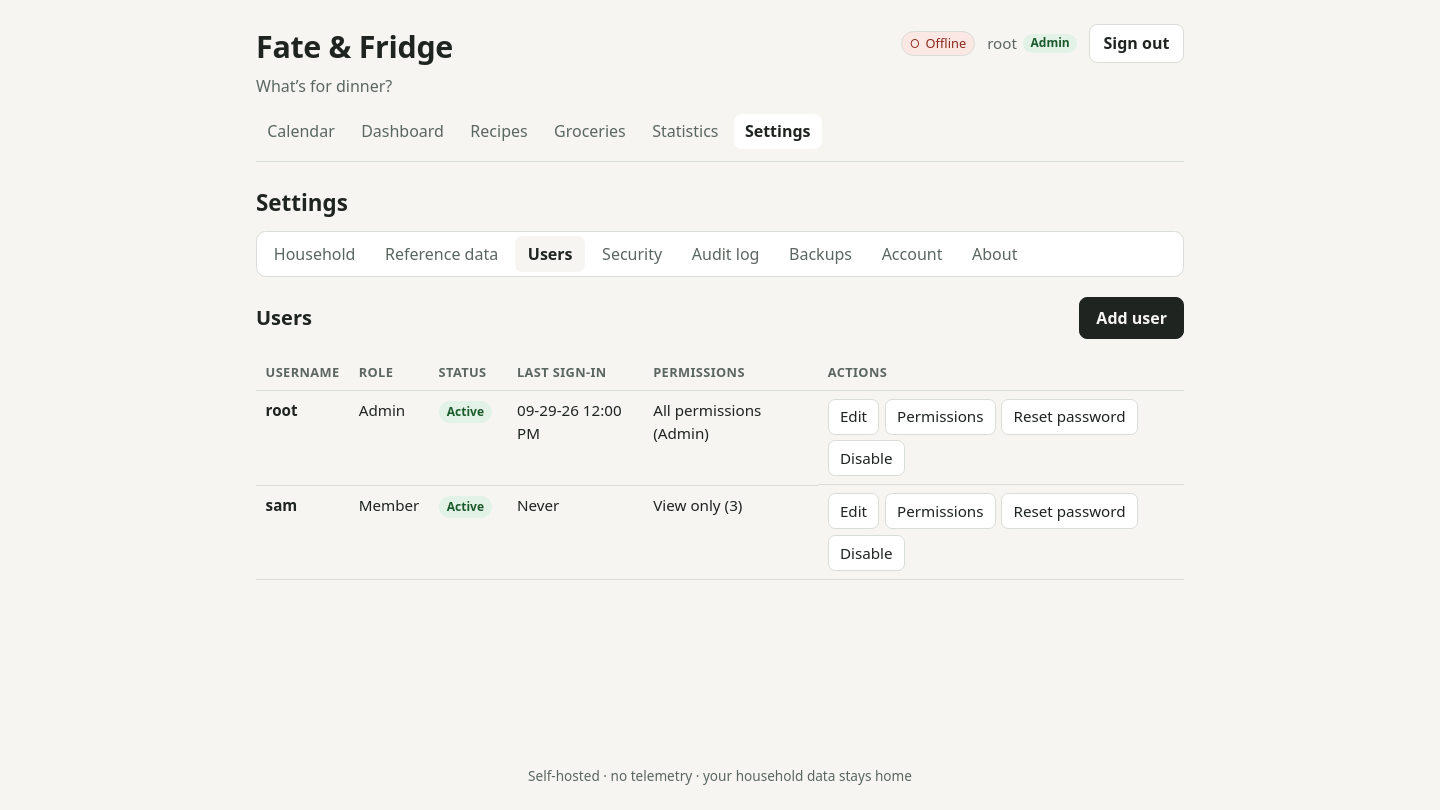
it: users section › saves permission presets and explains that edit implies view
The image size is (1440, 810).
Click the button with aria-label "Permissions for sam": [940, 511] box [885,493,996,529]
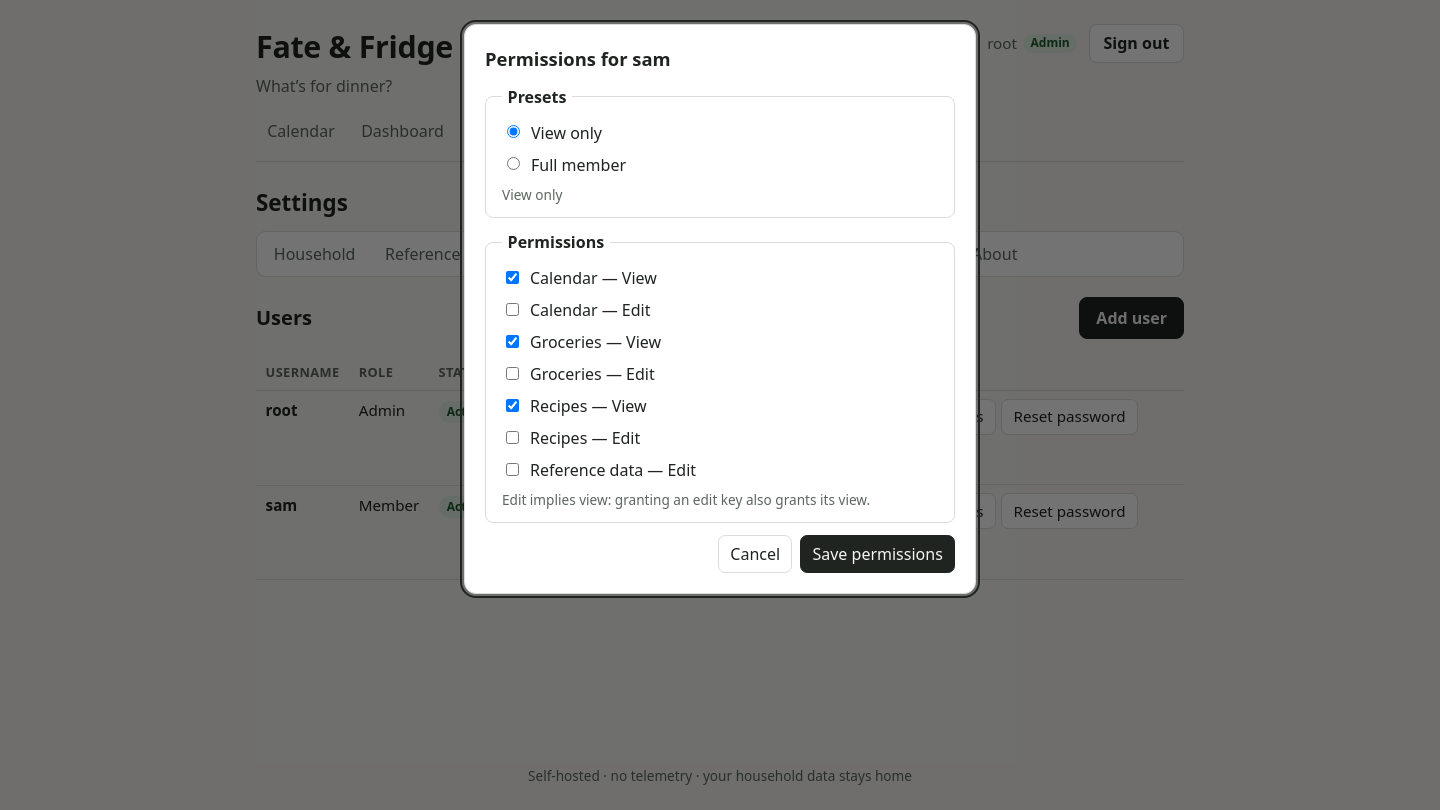
Expected: the text "Edit implies view" is shown, [502,490,870,509]
Click the radio button labelled "Full member": [514, 164] box [507,157,520,170]
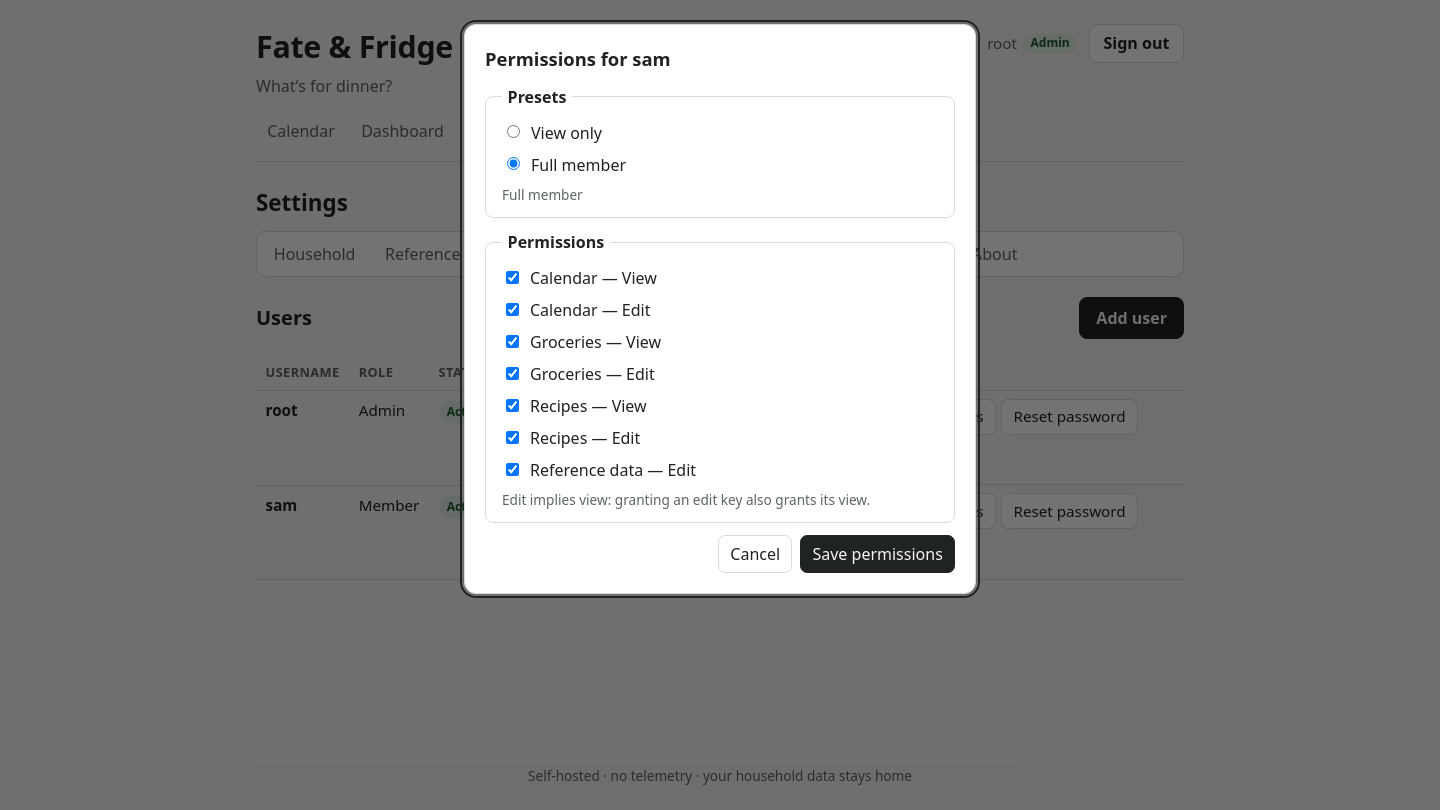
Click the button "Save permissions": [878, 554] box [800,535,955,573]
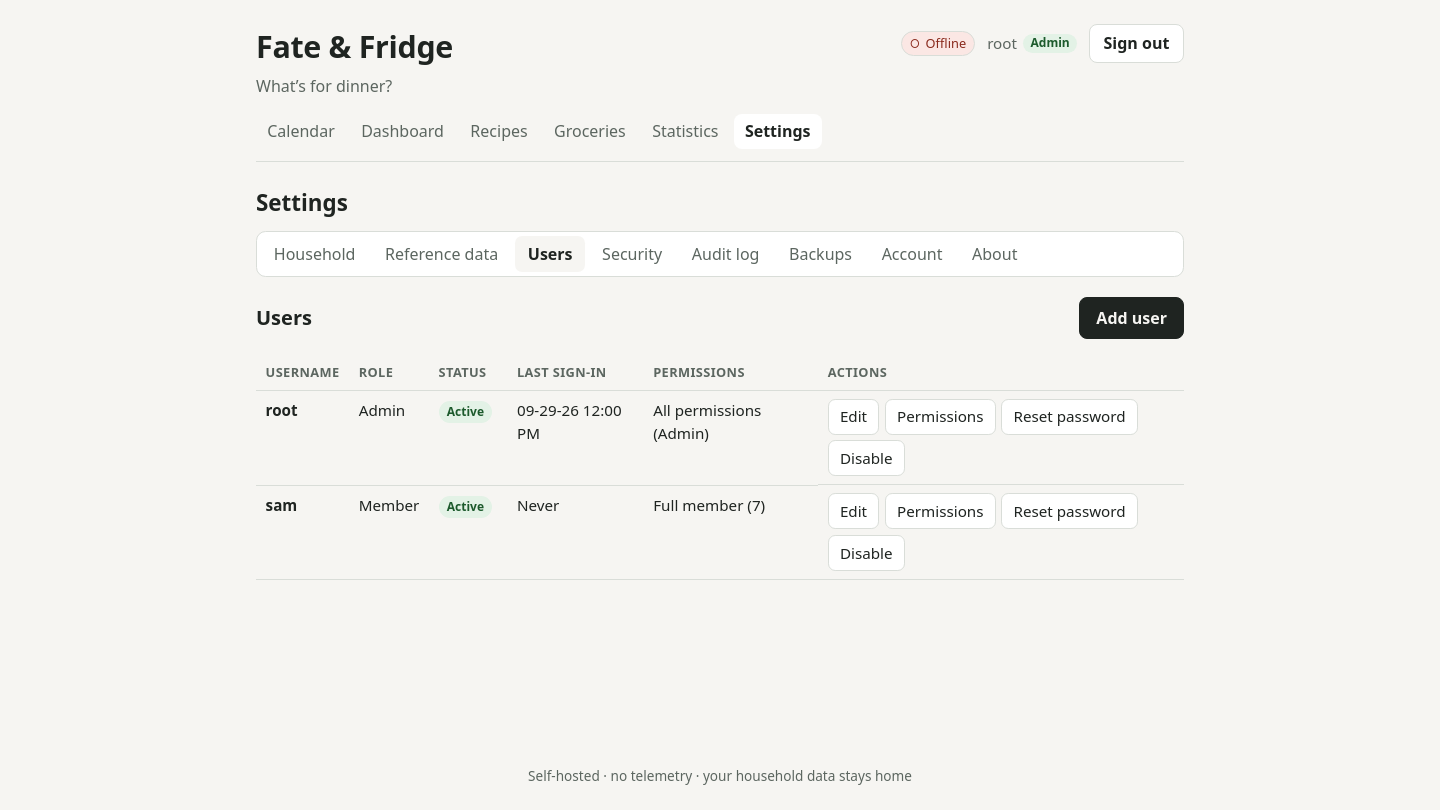
Expected: the heading "Permissions for sam" is gone
Expected: the text "Full member (7)" is shown, [644,485,818,580]
